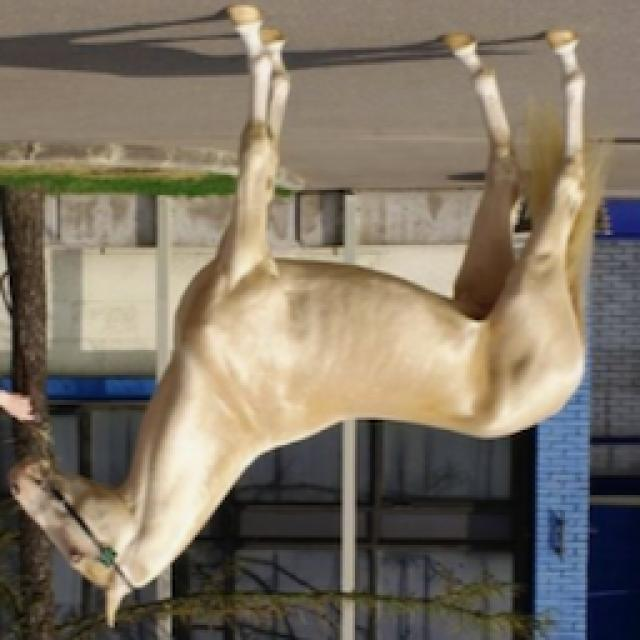Horse: (2, 2, 618, 632)
